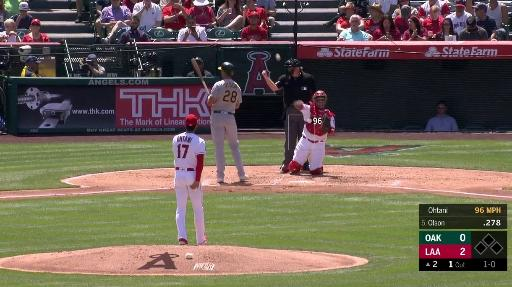pitcher: (173, 114, 211, 245)
